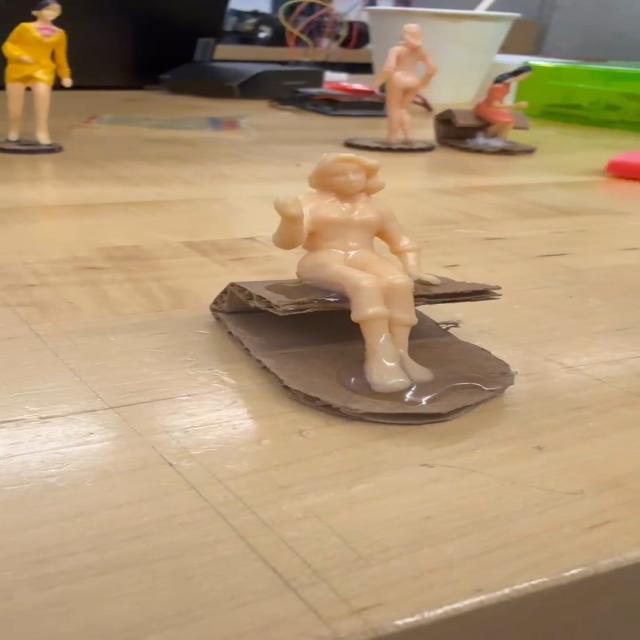Unauthorized: (230, 153, 462, 421)
